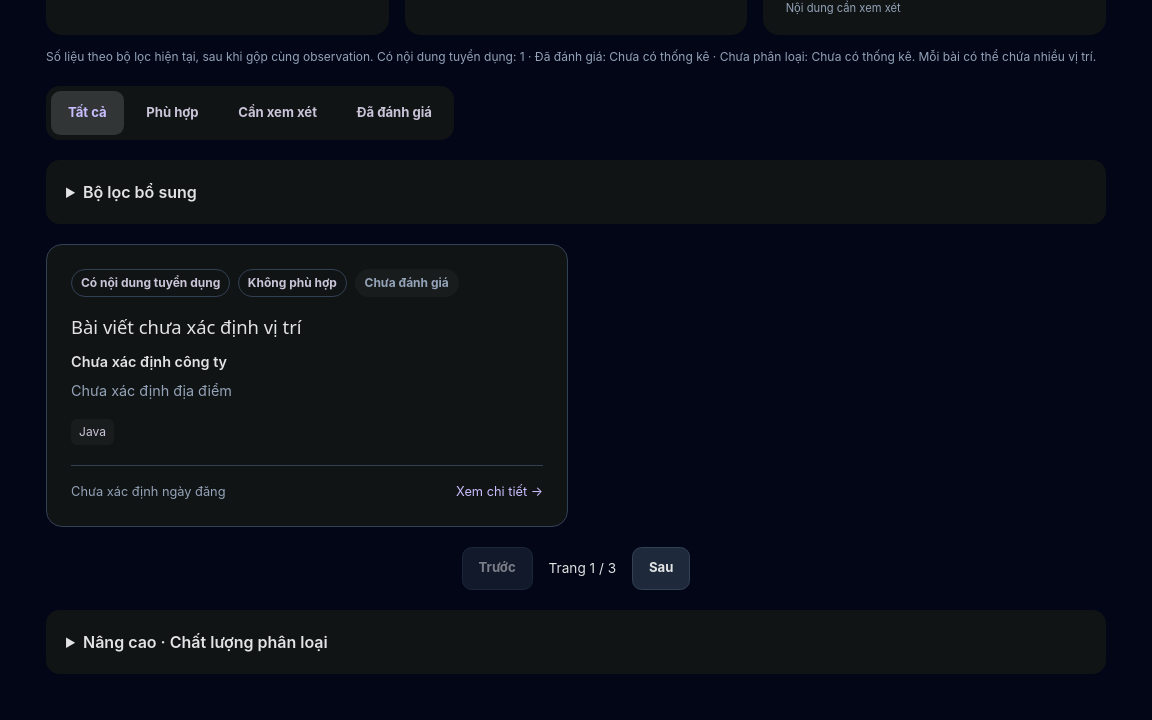
Discovery Review › uses server totals rather than the current page for summary, with functional pagination
(page scrolled)
Expected: the button "Trước" is disabled, [462, 546, 533, 590]
Click the button "Sau" at (661, 568), box [632, 546, 690, 590]
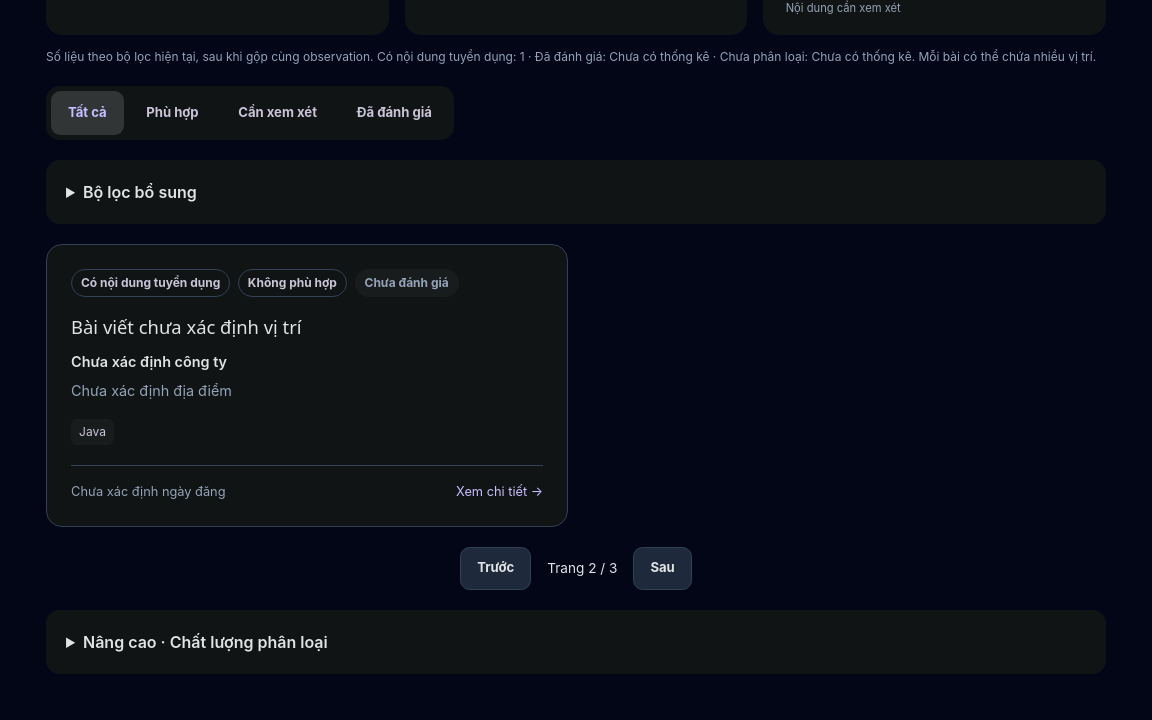
Expected: the navigation bar named "Phân trang" shows "Trang 2 / 3", [547, 560, 617, 576]
